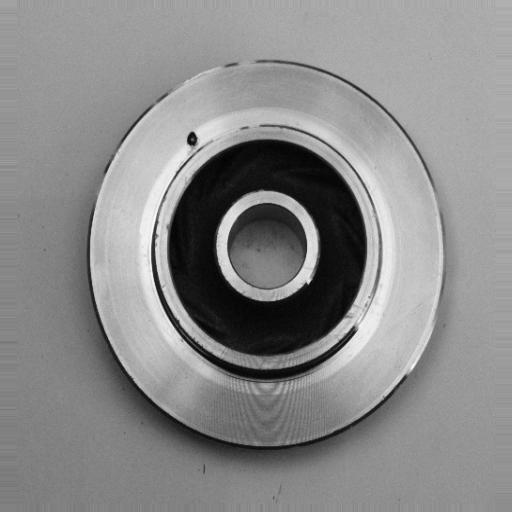pit: (178, 121, 209, 155)
scratch: (345, 285, 382, 347)
unpolished_casting: (84, 54, 452, 456)
